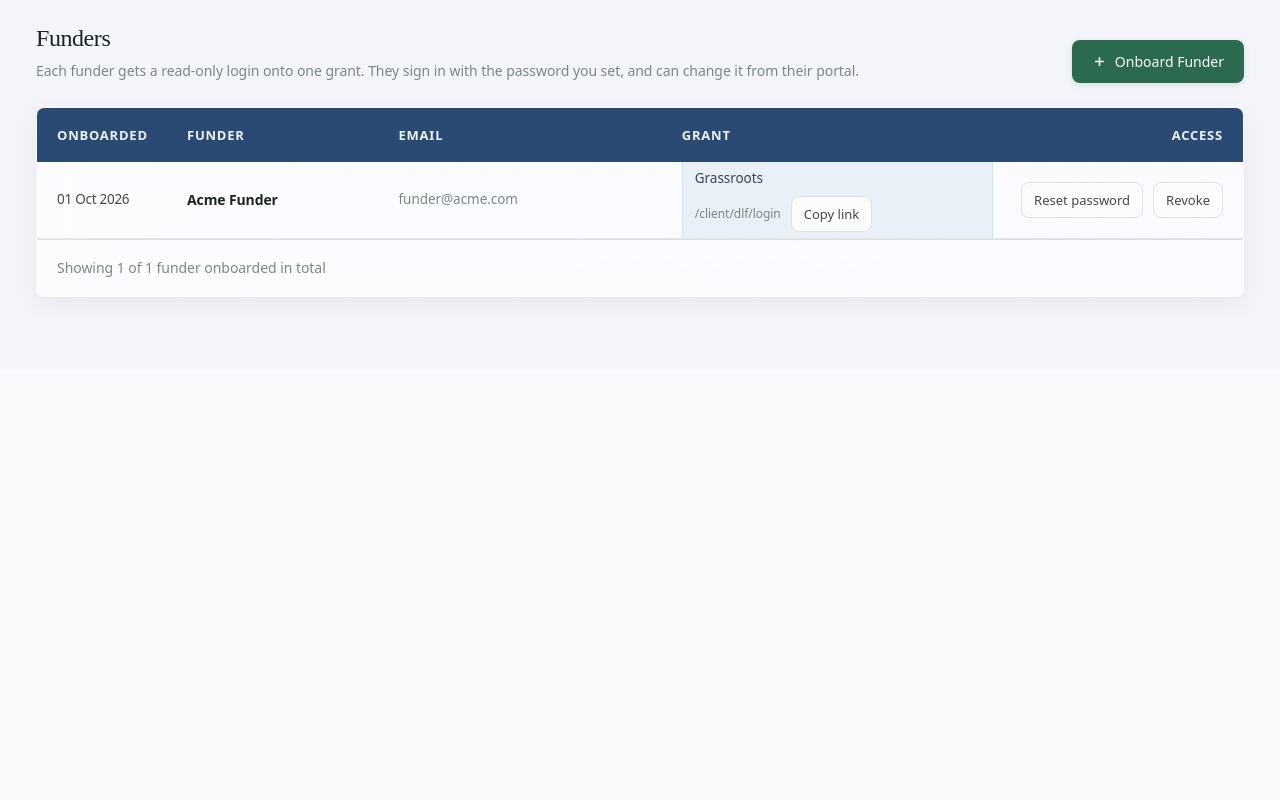
Test: each funder row shows its full portal link with a Copy button
The width and height of the screenshot is (1280, 800).
Expected: the text "/client/dlf/login" is shown, [695, 204, 781, 224]
Click the button with aria-label "Copy portal link for funder@acme.com".
click(831, 214)  # box [791, 196, 872, 232]
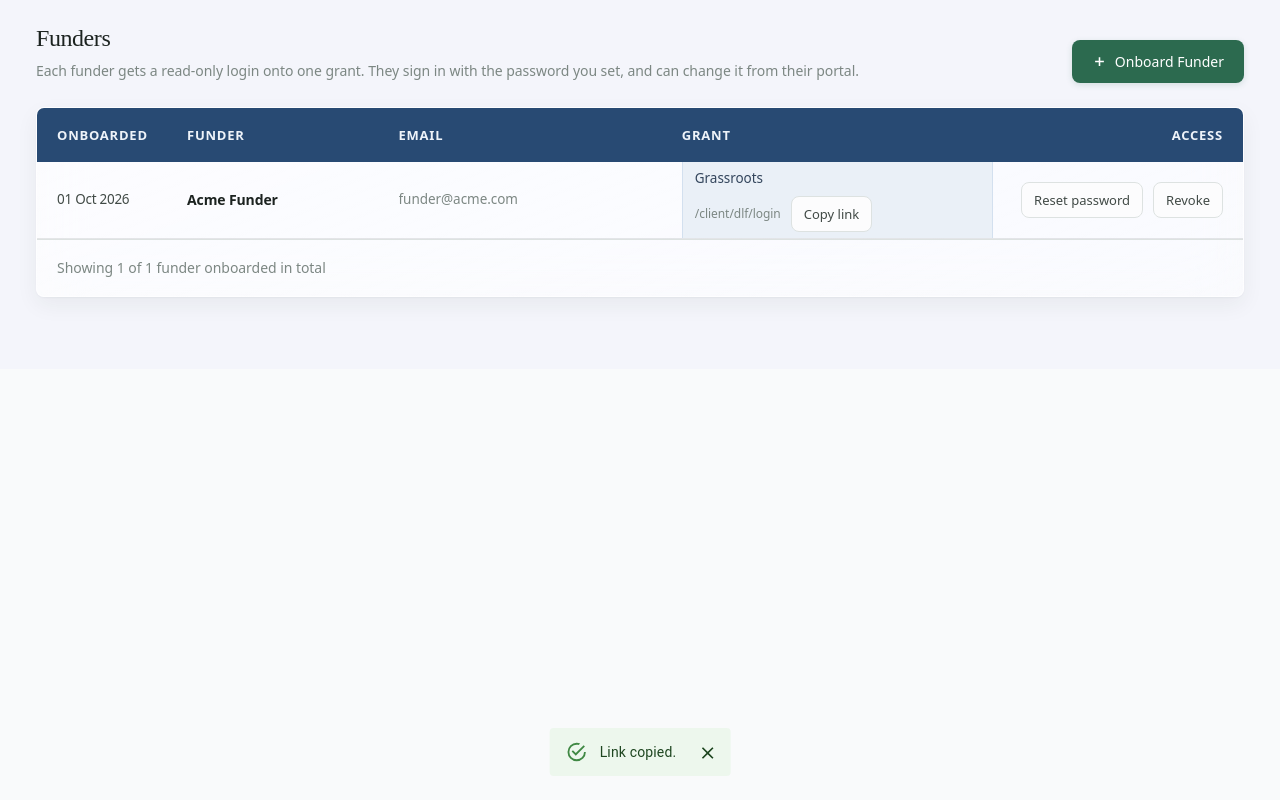
Expected: the text "Link copied." is shown, [600, 744, 676, 760]
